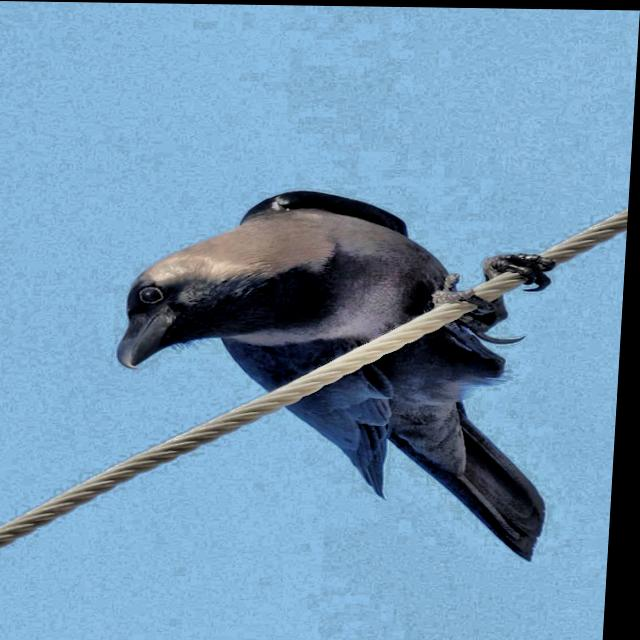crow: (105, 173, 593, 562)
